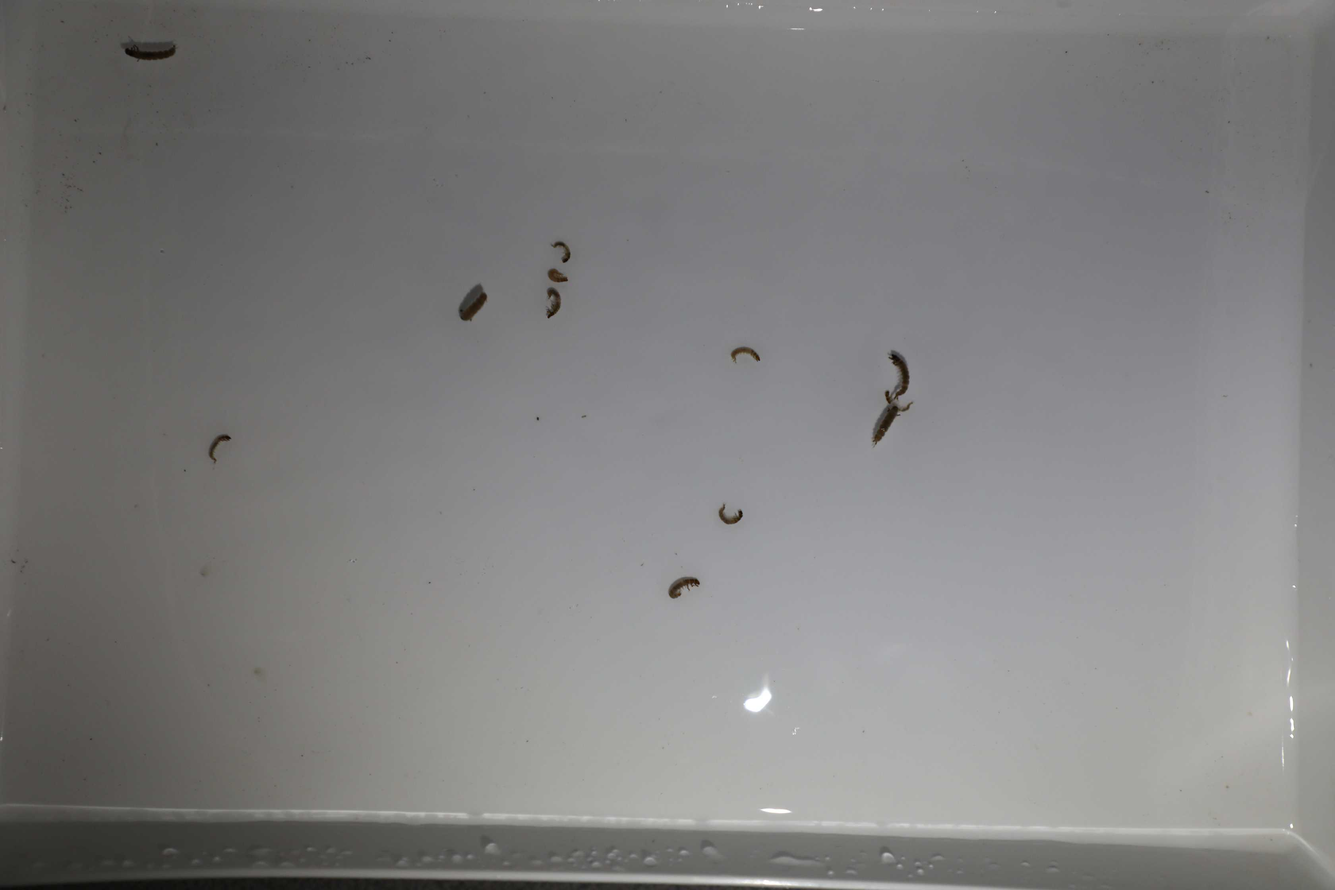Cadisfly: (883, 345, 915, 395), (117, 40, 175, 66), (456, 279, 484, 327), (870, 403, 898, 451), (664, 575, 703, 603), (208, 429, 236, 467), (728, 338, 763, 367), (547, 239, 576, 266), (882, 390, 923, 409), (713, 502, 746, 525), (545, 286, 563, 320), (545, 269, 568, 286)
